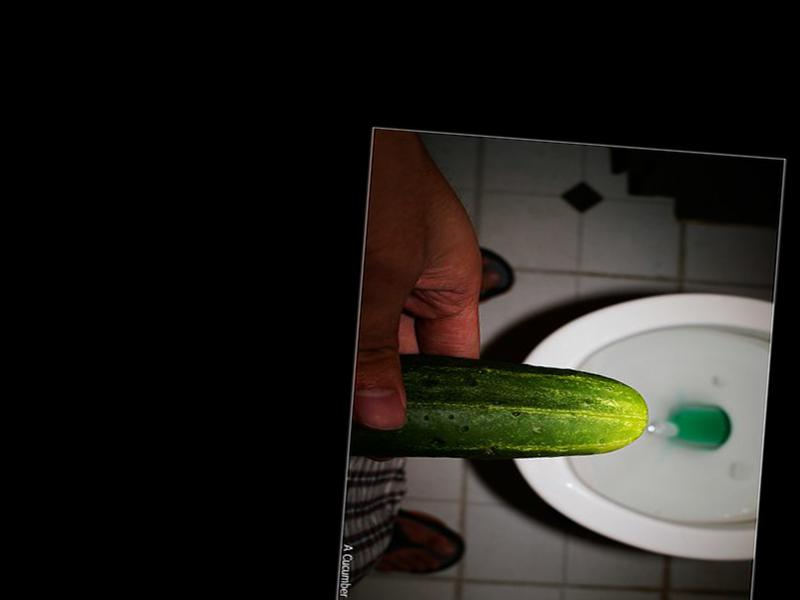Cucumber: (344, 350, 650, 477)
